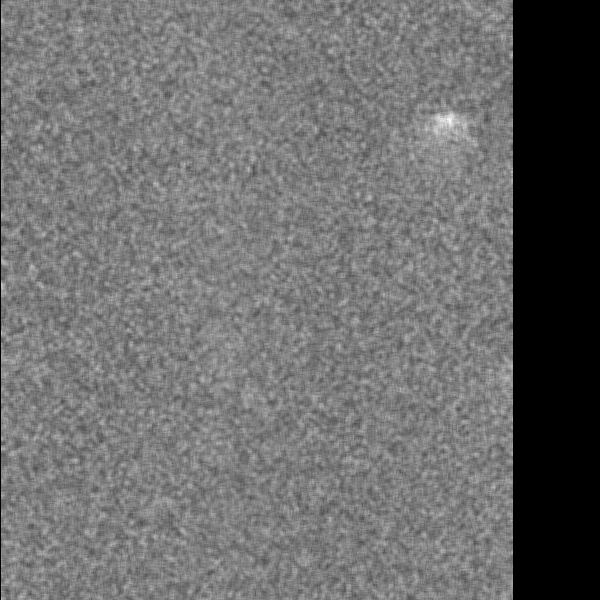spark: (427, 104, 468, 158)
